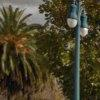Palm tree: (0, 4, 42, 92)
